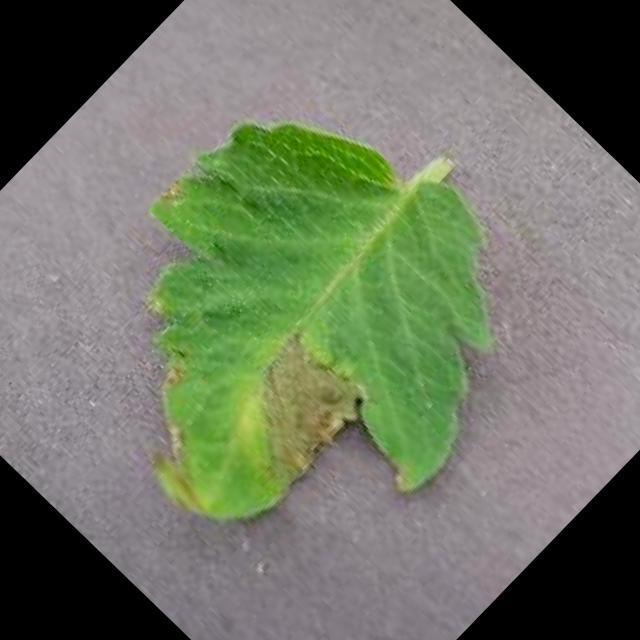Tomato late blight leaf: (12, 49, 589, 627)
